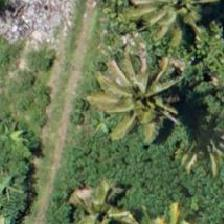coconut_tree: (101, 48, 191, 138), (127, 0, 217, 49)
